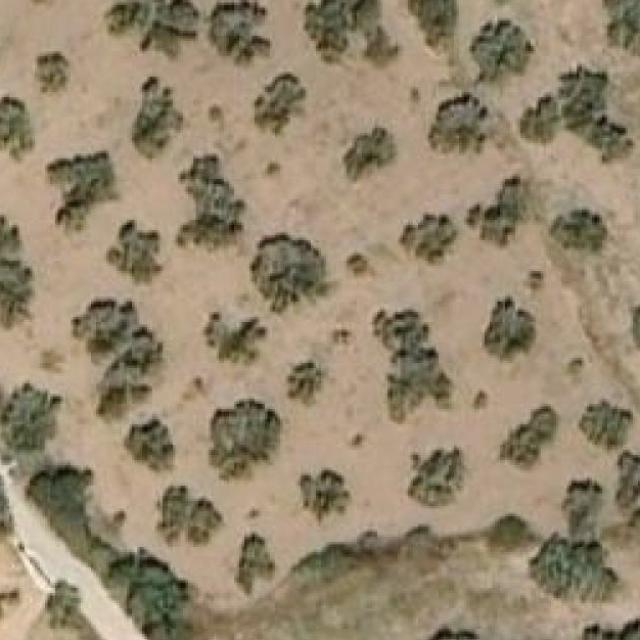Tree: (70, 296, 168, 422), (517, 64, 633, 164), (372, 310, 454, 425), (250, 233, 340, 318), (528, 532, 624, 603), (177, 154, 246, 250), (45, 151, 122, 236), (117, 550, 196, 632), (303, 0, 398, 66), (208, 398, 282, 481), (107, 0, 199, 61), (464, 177, 531, 251), (466, 17, 533, 87), (129, 74, 183, 160), (481, 296, 546, 363), (4, 383, 63, 453), (206, 0, 270, 61), (154, 486, 221, 542), (0, 212, 33, 324), (428, 92, 488, 153), (106, 220, 162, 284), (202, 312, 267, 366), (254, 72, 306, 136), (398, 212, 459, 266), (408, 450, 464, 506), (579, 399, 633, 453), (296, 471, 352, 522), (124, 417, 175, 473), (507, 407, 556, 463), (344, 128, 394, 182), (548, 210, 607, 253), (0, 94, 35, 164), (236, 532, 275, 593), (602, 0, 640, 58), (410, 0, 456, 46), (34, 51, 74, 100), (483, 516, 538, 550), (560, 478, 604, 520), (47, 580, 86, 626), (614, 450, 640, 506), (287, 363, 321, 404), (582, 618, 640, 640), (0, 469, 13, 543), (421, 623, 477, 640), (347, 254, 382, 279), (35, 345, 65, 373), (566, 358, 585, 386), (522, 271, 543, 291), (208, 105, 224, 131), (471, 389, 487, 412), (333, 330, 354, 346), (347, 434, 365, 450), (265, 160, 280, 179)
